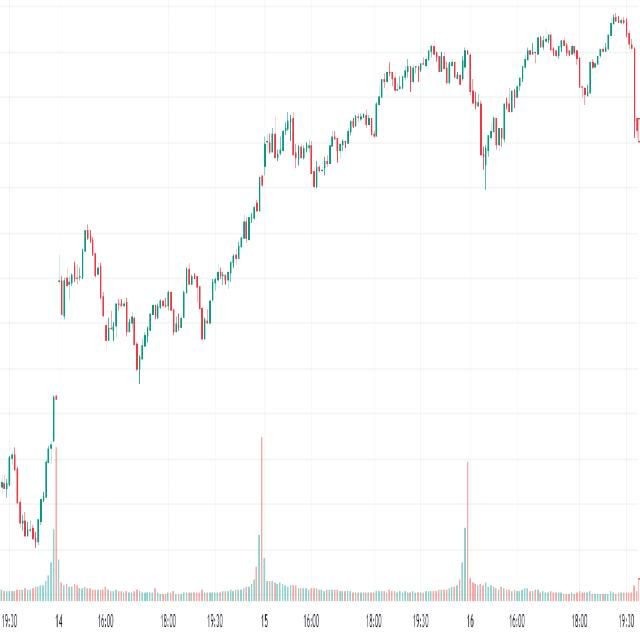Channel-up: (302, 23, 454, 199)
Rounding-Bottom: (86, 220, 245, 390)
